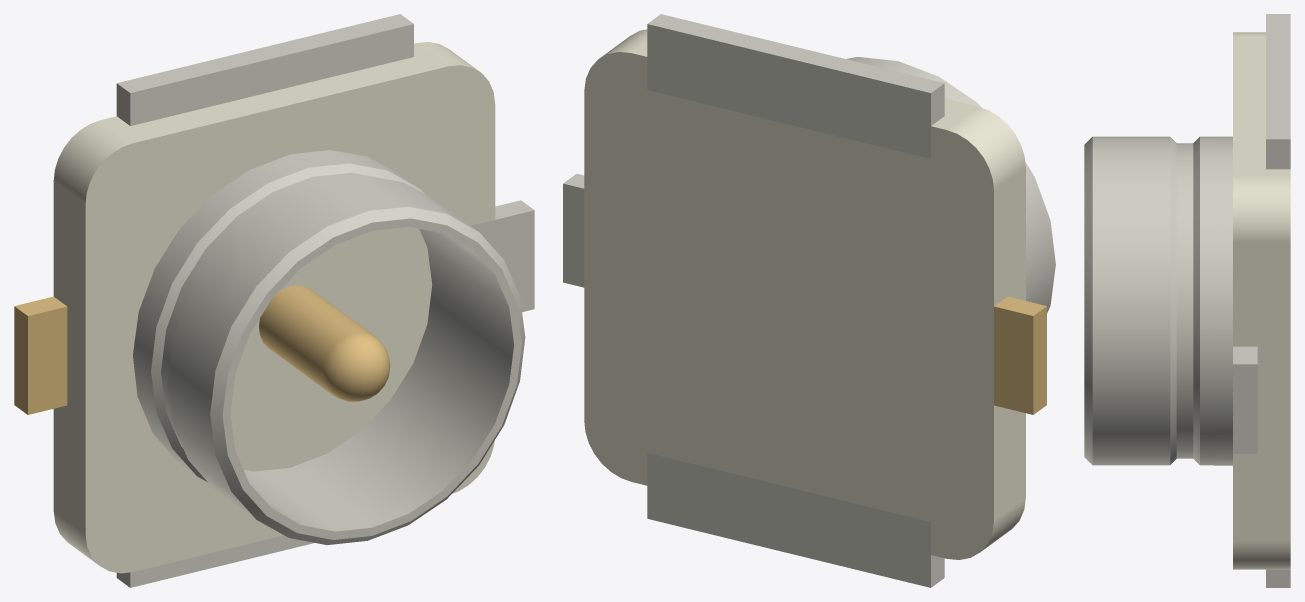
File: U.FL_Hirose_U.FL-R-SMT-1_Vertical-bb861ac13b1f.glb
3 views of the same model, side by side, from view 1: azimuth 30°, elevation 25°; view 2: azimuth 150°, elevation 25°; view 3: azimuth 270°, elevation 25° (orthographic). The views are drawn at different scales.
Visible parts, largest first — view 1: material1, material2, material0; view 2: material1, material2, material0; view 3: material2, material1.
Part boxes in pixels (x1=…): material1: x1=53, y1=42, x2=495, y2=573; material2: x1=116, y1=14, x2=534, y2=587; material0: x1=14, y1=285, x2=390, y2=414; material1: x1=584, y1=29, x2=1025, y2=559; material2: x1=563, y1=14, x2=1055, y2=587; material0: x1=994, y1=296, x2=1046, y2=414; material2: x1=1084, y1=14, x2=1290, y2=587; material1: x1=1233, y1=32, x2=1290, y2=569.
Size of the model in its own units: 3.1 by 3 by 1.25.
